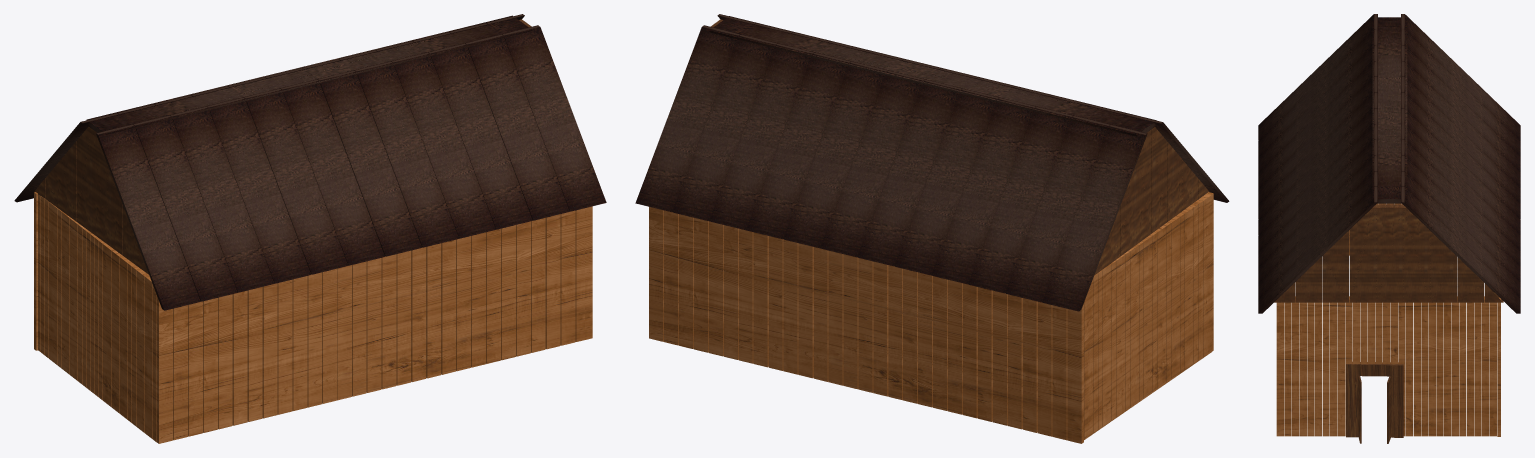
The model's file is Hut.FBX.
The picture shows the model from 3 angles, left to right: view 1: azimuth 30°, elevation 25°; view 2: azimuth 150°, elevation 25°; view 3: azimuth 270°, elevation 25°; orthographic projection. The views are drawn at different scales.
Visible parts, largest first — view 1: Roof, SidesOfHut, Box005; view 2: Roof, SidesOfHut, Box005; view 3: Roof, SidesOfHut, Box006, PivotDoor001.
Part boxes in pixels (bbox=[...]): Roof: bbox=[14, 14, 606, 310]; SidesOfHut: bbox=[34, 192, 592, 443]; Box005: bbox=[34, 126, 148, 274]; Roof: bbox=[635, 14, 1229, 311]; SidesOfHut: bbox=[649, 192, 1213, 443]; Box005: bbox=[1094, 127, 1209, 275]; Roof: bbox=[1258, 14, 1520, 313]; SidesOfHut: bbox=[1276, 203, 1500, 436]; Box006: bbox=[1274, 204, 1503, 302]; PivotDoor001: bbox=[1346, 362, 1403, 443].
Bounding box in the file's own units: 74.3 × 42.07 × 42.39.
3 materials, 3 textured.
